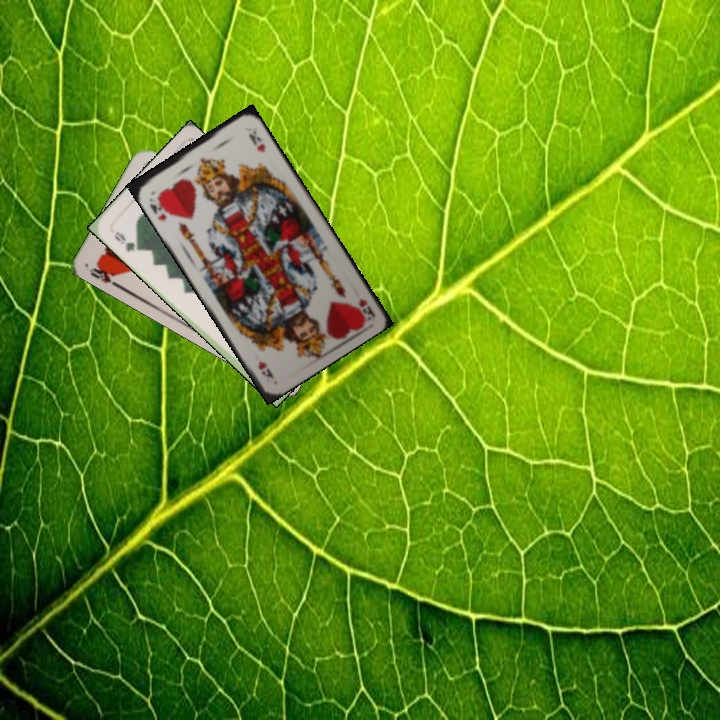G9: (110, 227, 143, 255)
HK: (145, 192, 173, 224), (354, 294, 377, 321)
HO: (85, 260, 122, 290)
